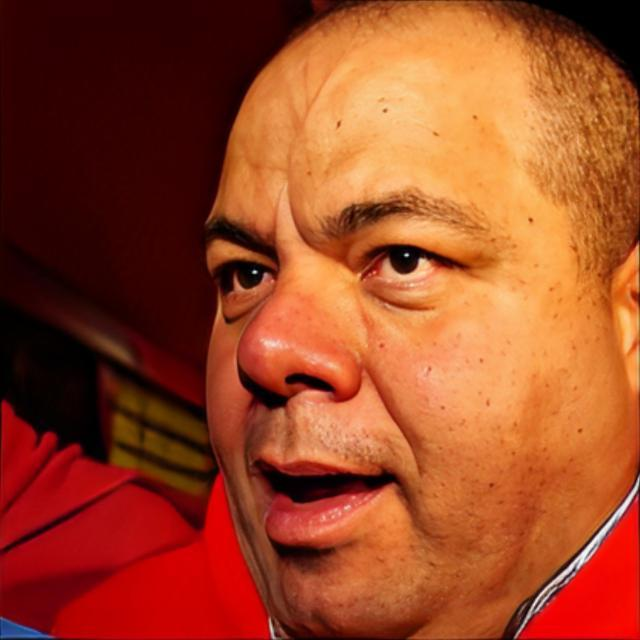anger: (200, 24, 614, 633)
